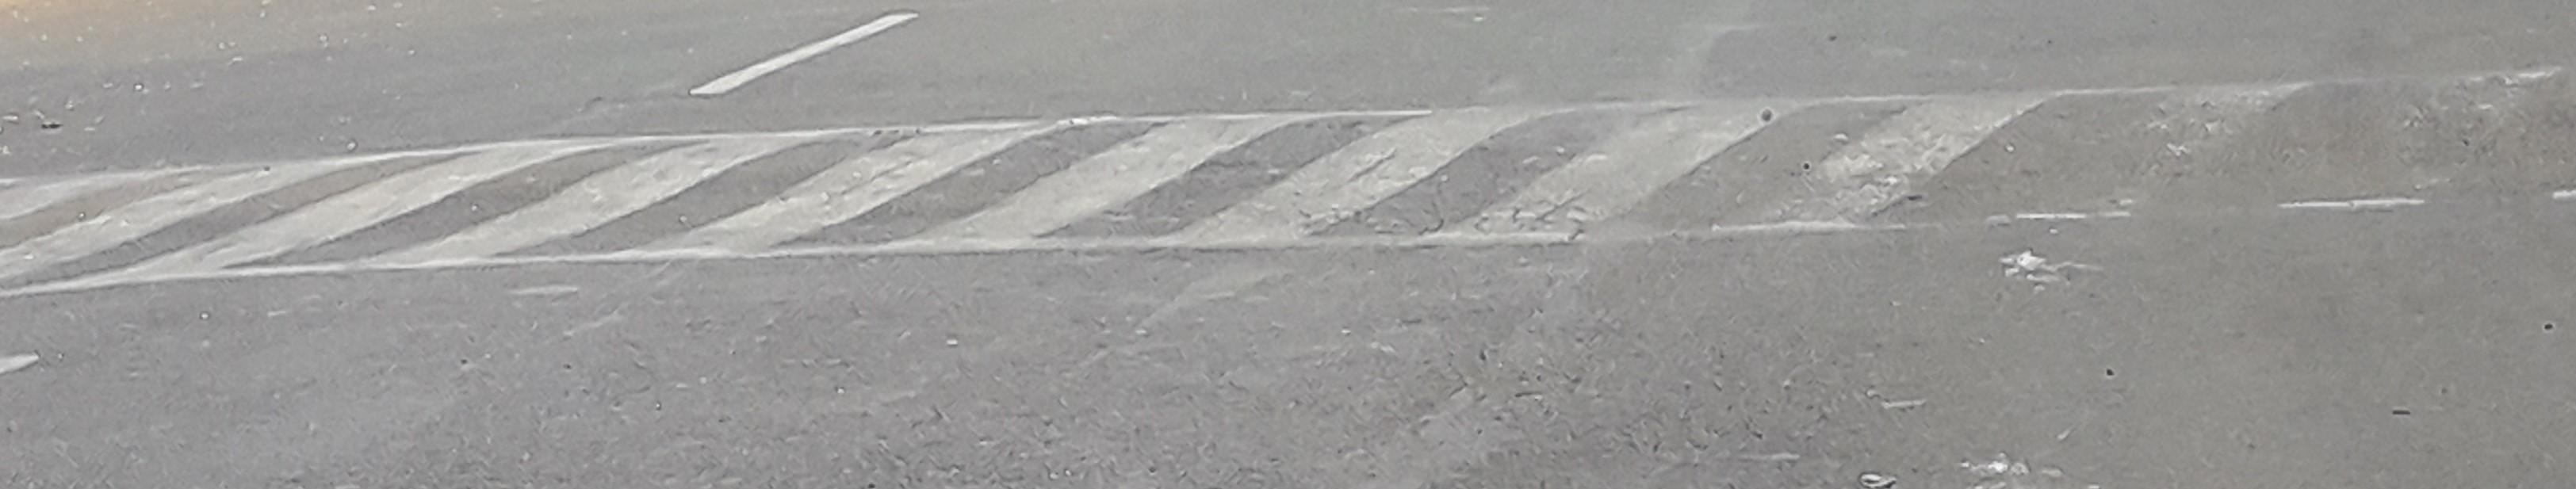speed-bump: (0, 48, 2568, 291)
